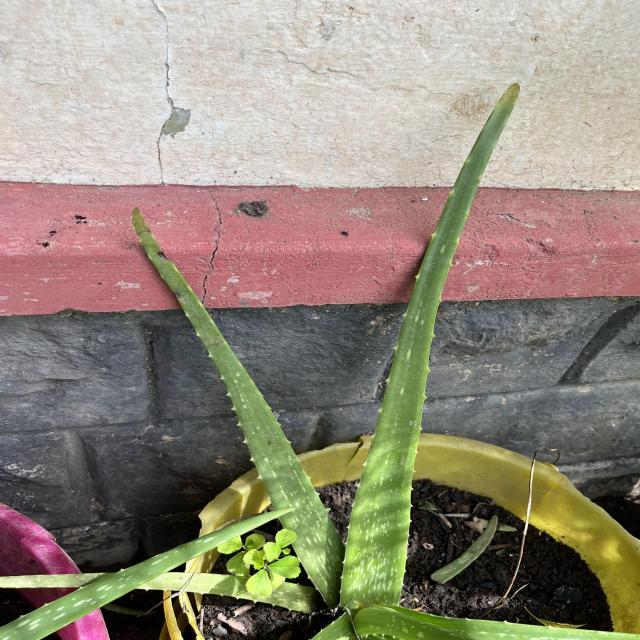Aloe vera: (338, 76, 527, 614), (128, 207, 352, 592)
